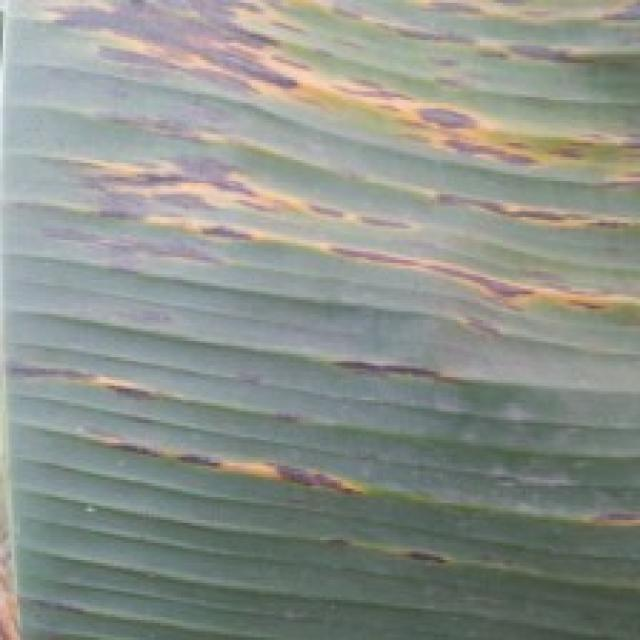Early_leaf_spot: (0, 0, 640, 335), (56, 405, 373, 519), (0, 341, 175, 417), (301, 325, 465, 405), (282, 517, 477, 576), (544, 478, 640, 544)
